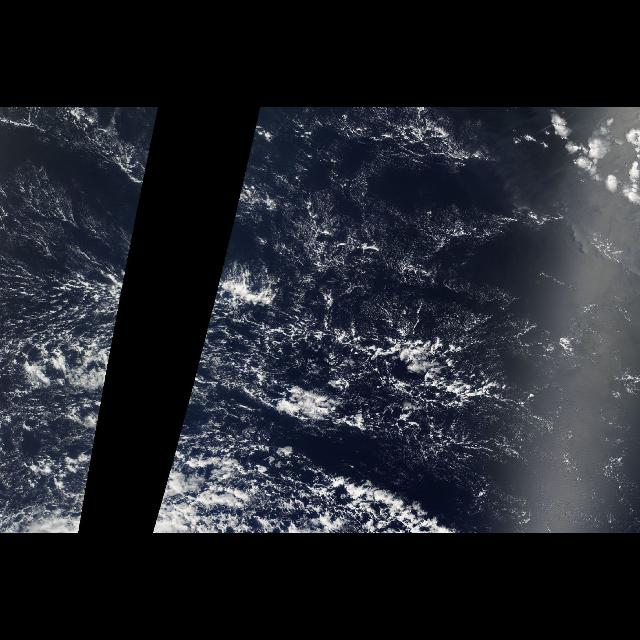Gravel: (171, 272, 623, 470), (0, 299, 124, 459)
Sugar: (286, 116, 596, 337)
